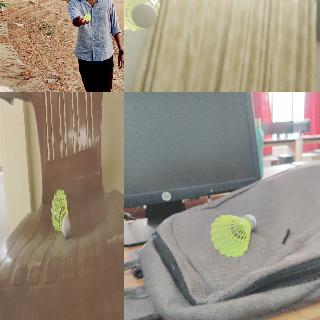shuttlecock: (210, 214, 256, 256), (124, 0, 161, 32), (51, 189, 70, 237), (84, 14, 90, 20)
